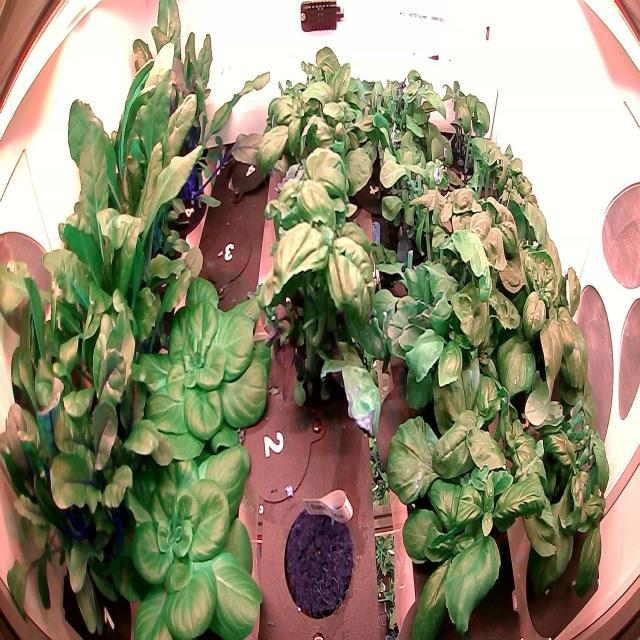empty_pod: (197, 205, 257, 297), (223, 127, 276, 205)
pod: (280, 498, 360, 622)
young: (106, 442, 265, 639), (124, 274, 273, 466)
